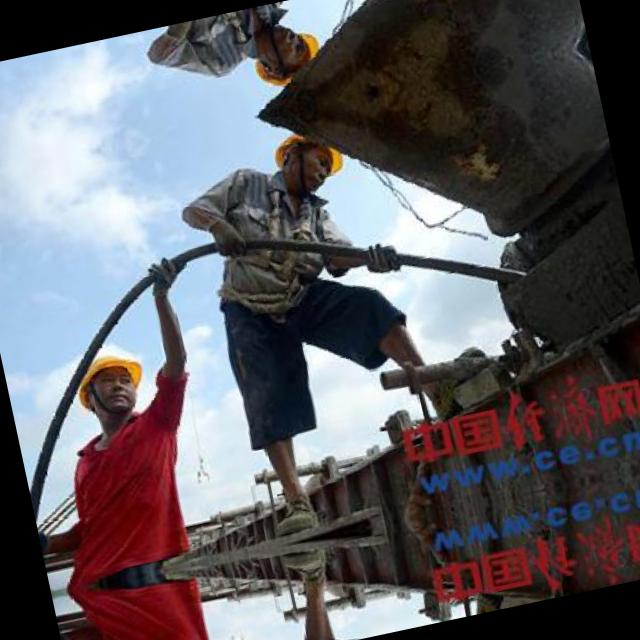helmet: (61, 336, 156, 432), (264, 116, 352, 202), (242, 12, 329, 96)
